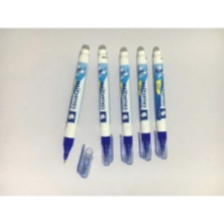correction_fluid: (61, 47, 91, 166), (95, 46, 114, 166), (118, 48, 135, 166), (135, 49, 152, 162), (152, 48, 169, 160)
